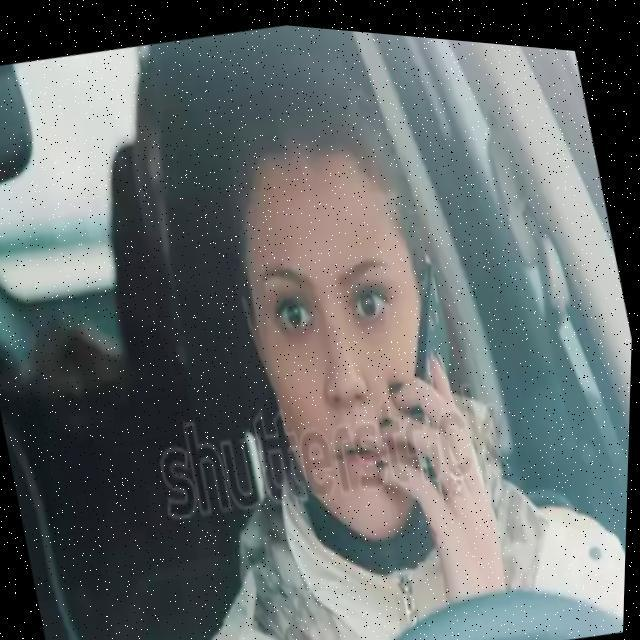PhoneCall: (372, 243, 484, 482)
